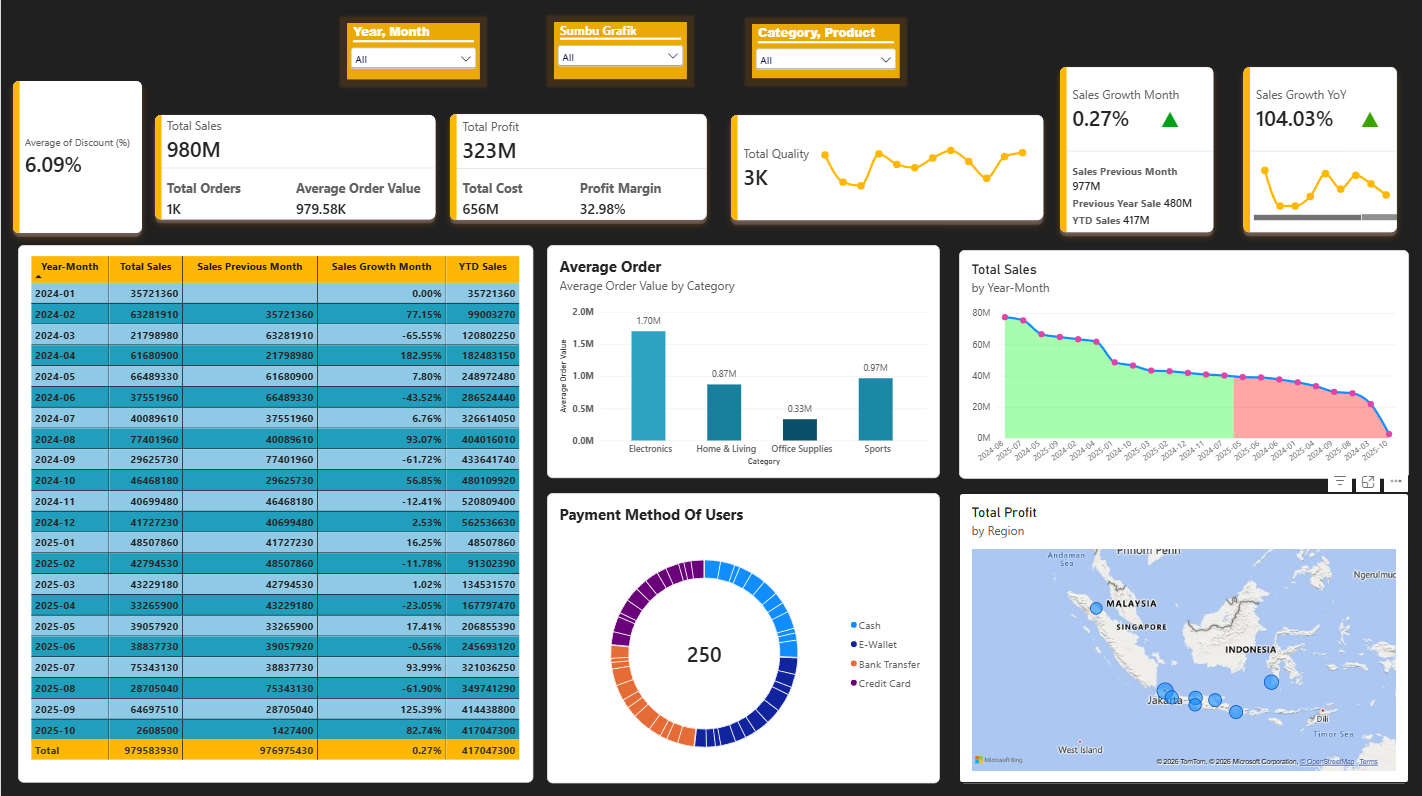

Layout of this report page (visuals, bound fields, positions):
{"tool":"powerbi","page":{"name":"Duplicate of Duplicate of Dashboard","canvas":[1920,1080],"ordinal":3},"visuals":[{"type":"cardVisual","fields":{"Data":["Sales_Data.Total Sales"]},"box":[191.2,145.4,410.7,173.7],"z":0},{"type":"cardVisual","fields":{"Data":["Sales_Data.Total Profit"]},"box":[588.6,143.9,378.4,175.1],"z":1000},{"type":"cardVisual","fields":{"Data":["Sales_Data.Sales Growth Month","Sales_Data.Sales Growth YoY"]},"box":[1409.4,81.1,486.1,255.9],"z":2000},{"type":"lineChart","fields":{"Category":["Calendar.Year-Month"],"Y":["Sales_Data.Total Sales"]},"box":[1290,342.9,606,308.4],"z":4000},{"type":"tableEx","fields":{"Values":["Calendar.Year-Month","Sales_Data.Total Sales","Sales_Data.Sales Previous Month","Sales_Data.Sales Growth Month","Sales_Data.YTD Sales"]},"box":[22.9,337.1,694.3,724.3],"z":5000},{"type":"cardVisual","fields":{"Data":["Sales_Data.Total Quality"]},"box":[967.3,145.5,453.6,174.5],"z":6000},{"type":"clusteredColumnChart","title":"Average Order","fields":{"Category":["Sales_Data.Category","Sales_Data.Payment Method","Sales_Data.Product"],"Y":["Sales_Data.Average Order Value"]},"box":[735.7,337.1,528.6,314.3],"z":7000},{"type":"map","fields":{"Category":["Sales_Data.Region"],"Size":["Sales_Data.Total Profit"]},"box":[1290,670,605.7,391.4],"z":8000},{"type":"donutChart","title":"Payment Method  Of Users","fields":{"Category":["Sales_Data.Payment Method"],"Series":["Calendar.Month"],"Y":["Count(Sales_Data.Customer ID)"]},"box":[735.7,670,528.6,391.4],"z":9000},{"type":"cardVisual","fields":{"Data":["Sales_Data.Indikator Clicks"]},"box":[1545.7,151.4,62.9,30],"z":10000},{"type":"cardVisual","fields":{"Data":["Sales_Data.YoY Indikator Clicks"]},"box":[1815.7,145.7,58.6,41.4],"z":11000},{"type":"slicer","fields":{"Values":["Calendar.Year","Calendar.Month"]},"box":[465.7,37.1,178.6,75.7],"z":12000},{"type":"slicer","fields":{"Values":["Sumbu Grafik.Sumbu Grafik"]},"box":[745,36,178.7,77.3],"z":13000},{"type":"slicer","fields":{"Values":["Sales_Data.Category","Sales_Data.Product"]},"box":[1011.4,38.6,198.6,72.9],"z":14000},{"type":"lineChart","fields":{"Category":["Calendar.Month"],"Y":["Sales_Data.Total Quality"]},"box":[1084.5,170,317.3,124.5],"z":15501},{"type":"cardVisual","fields":{"Data":["Avg(Sales_Data.Discount (%))"]},"box":[0,99.7,206,237],"z":15503},{"type":"lineChart","fields":{"Category":["Calendar.Month"],"Y":["Sales_Data.Sales Growth YoY"]},"box":[1671.2,195.3,224.9,123.9],"z":15504}]}

Visuals, with their boxes in screenshot pixels (x1, y1, x2, y2), scaled from the page's 1920x1080 canvas onto the 1422x796 screenshot:
cardVisual - Sales_Data.Total Sales: {"left": 142, "top": 107, "right": 446, "bottom": 235}
cardVisual - Sales_Data.Total Profit: {"left": 436, "top": 106, "right": 716, "bottom": 235}
cardVisual - Sales_Data.Sales Growth Month x Sales_Data.Sales Growth YoY: {"left": 1044, "top": 60, "right": 1404, "bottom": 248}
lineChart - Calendar.Year-Month x Sales_Data.Total Sales: {"left": 955, "top": 253, "right": 1404, "bottom": 480}
tableEx - Calendar.Year-Month x Sales_Data.Total Sales: {"left": 17, "top": 248, "right": 531, "bottom": 782}
cardVisual - Sales_Data.Total Quality: {"left": 716, "top": 107, "right": 1052, "bottom": 236}
"Average Order" clusteredColumnChart: {"left": 545, "top": 248, "right": 936, "bottom": 480}
map - Sales_Data.Region x Sales_Data.Total Profit: {"left": 955, "top": 494, "right": 1404, "bottom": 782}
"Payment Method  Of Users" donutChart: {"left": 545, "top": 494, "right": 936, "bottom": 782}
cardVisual - Sales_Data.Indikator Clicks: {"left": 1145, "top": 112, "right": 1191, "bottom": 134}
cardVisual - Sales_Data.YoY Indikator Clicks: {"left": 1345, "top": 107, "right": 1388, "bottom": 138}
slicer - Calendar.Year x Calendar.Month: {"left": 345, "top": 27, "right": 477, "bottom": 83}
slicer - Sumbu Grafik.Sumbu Grafik: {"left": 552, "top": 27, "right": 684, "bottom": 84}
slicer - Sales_Data.Category x Sales_Data.Product: {"left": 749, "top": 28, "right": 896, "bottom": 82}
lineChart - Calendar.Month x Sales_Data.Total Quality: {"left": 803, "top": 125, "right": 1038, "bottom": 217}
cardVisual - Avg(Sales_Data.Discount (%)): {"left": 0, "top": 73, "right": 153, "bottom": 248}
lineChart - Calendar.Month x Sales_Data.Sales Growth YoY: {"left": 1238, "top": 144, "right": 1404, "bottom": 235}
